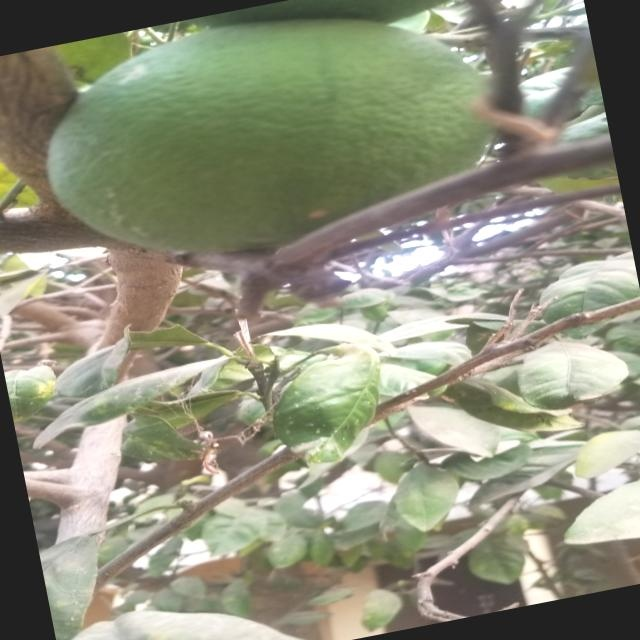agrume: (26, 0, 504, 290)
